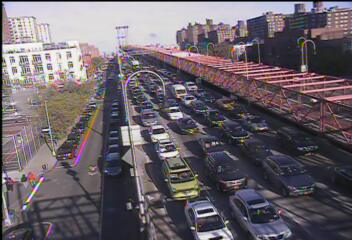neg: (192, 116, 219, 152), (226, 137, 251, 171), (79, 171, 96, 194), (106, 155, 123, 177), (171, 100, 187, 120), (64, 125, 78, 144), (57, 194, 71, 212), (149, 74, 162, 91), (63, 161, 75, 176), (160, 98, 170, 112), (133, 78, 143, 91), (42, 144, 51, 156), (264, 206, 272, 217), (149, 106, 154, 113), (140, 102, 144, 107)
pos: (16, 171, 30, 190), (25, 170, 39, 188)
